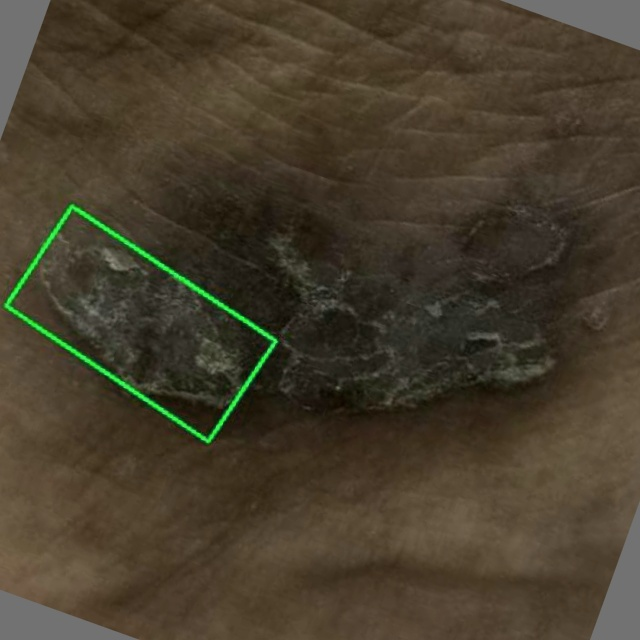Eczema: (5, 206, 275, 441)
